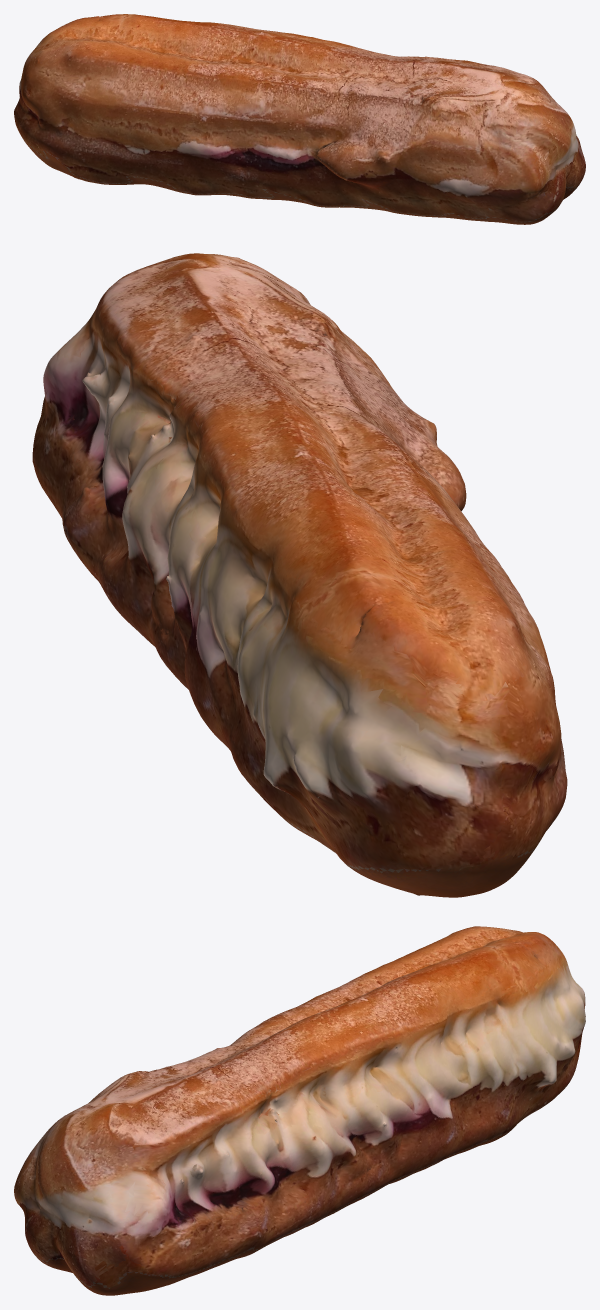
File: eclaire_40512.obj
3 views of the same model, one above another, from view 1: azimuth 30°, elevation 25°; view 2: azimuth 150°, elevation 25°; view 3: azimuth 270°, elevation 25° (orthographic). The views are drawn at different scales.
Size of the model in its own units: 93.84 by 31.58 by 91.29.
1 material, 1 textured.
